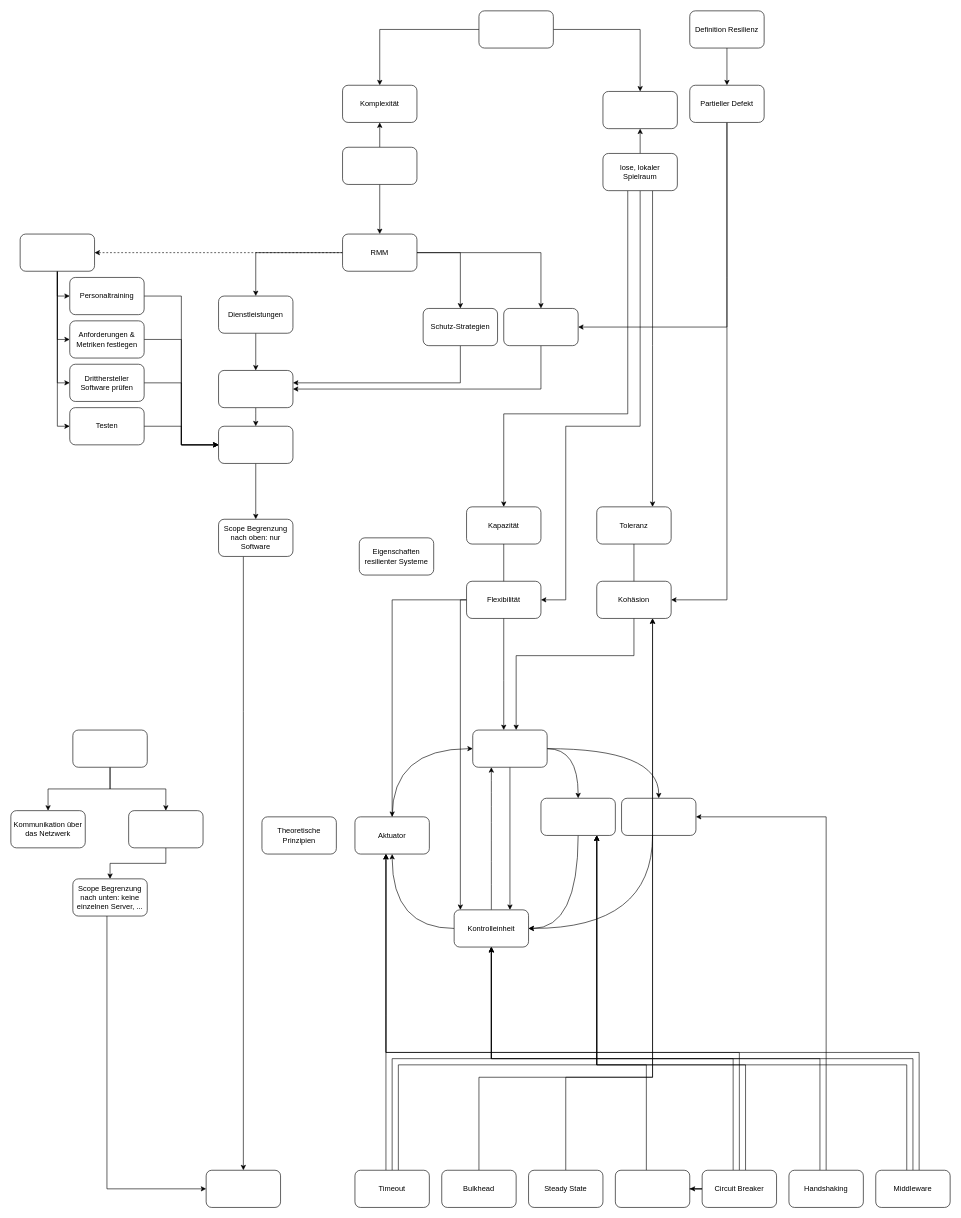
Image size: 961x1218. Some labels were removed from this diagram. The box of each missing label's shape, as (x1, y1, x2, y2) in pixels:
Entwurfsmuster: (206, 1170, 281, 1207)
Erhaltungs-Strategien: (503, 308, 578, 346)
Fail Fast: (615, 1170, 690, 1207)
Komponente = einzelner Kommunikations-partner: (128, 810, 203, 848)
Kopplung: (602, 91, 677, 129)
Monitoring: (540, 798, 615, 835)
MSDL: (20, 233, 95, 271)
niedrig -> Prozessabläufe: (342, 147, 417, 184)
Normal Accidents: (478, 10, 553, 48)
Prädiktor: (621, 798, 696, 835)
Redundanz: (472, 729, 547, 767)
Ressourcen: (218, 370, 293, 408)
Softwaresysteme: (218, 426, 293, 463)
Verteilte Systeme: (72, 729, 147, 767)
